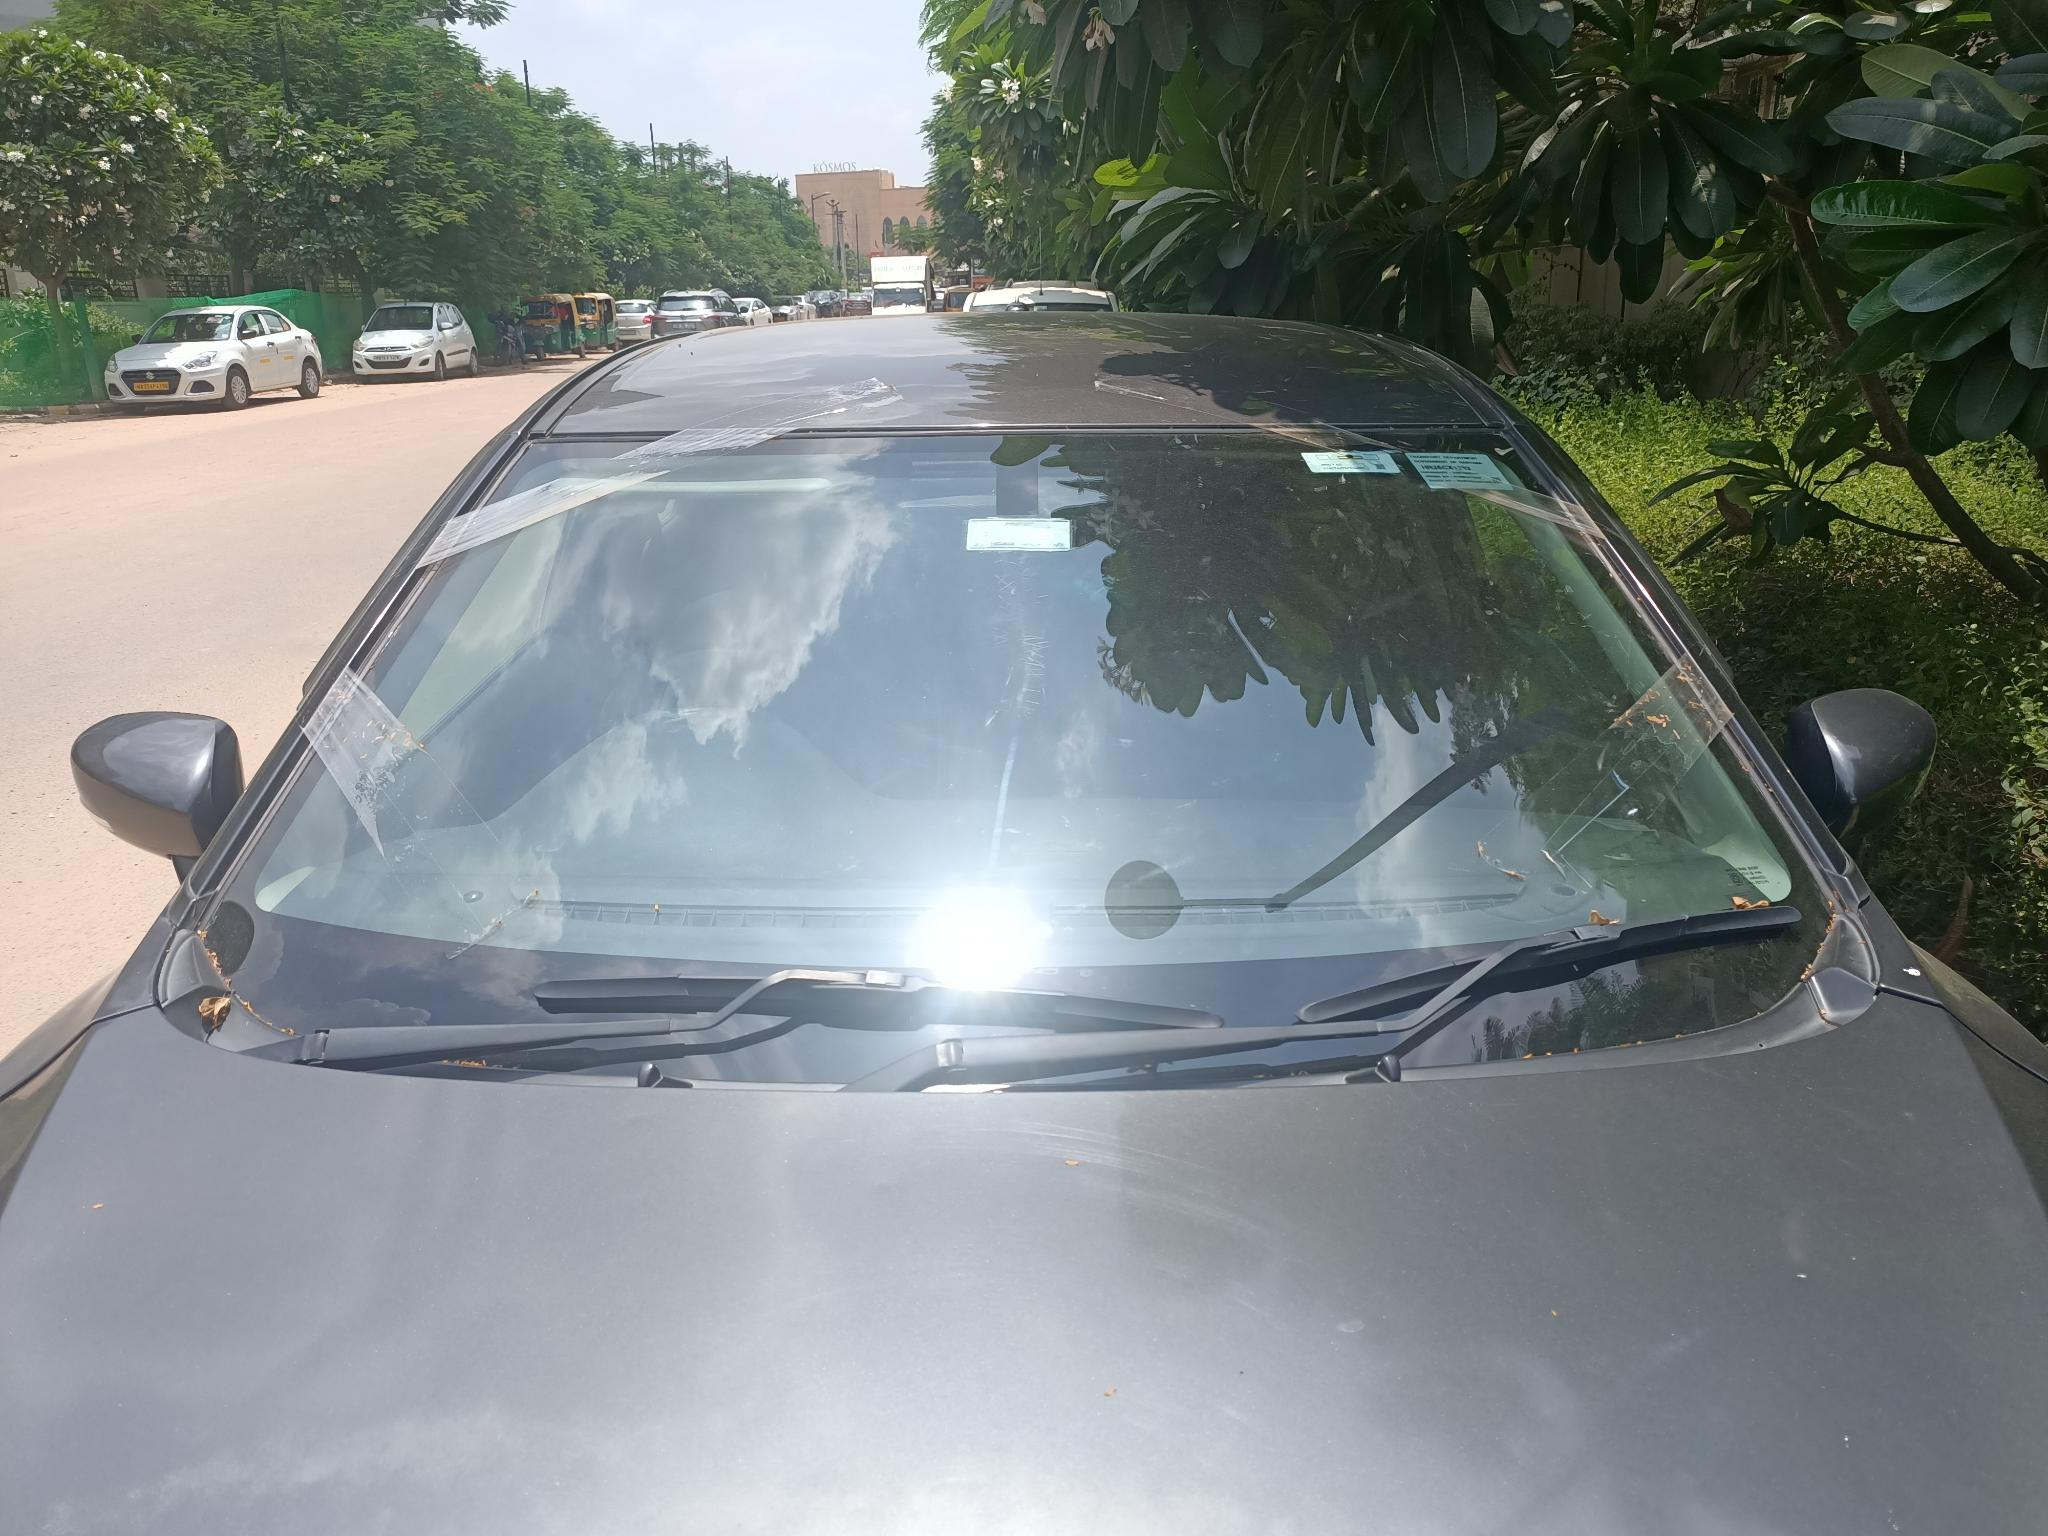FastTag: (953, 499, 1093, 574)
not a FastTag: (1405, 440, 1519, 513), (1298, 432, 1408, 484)
